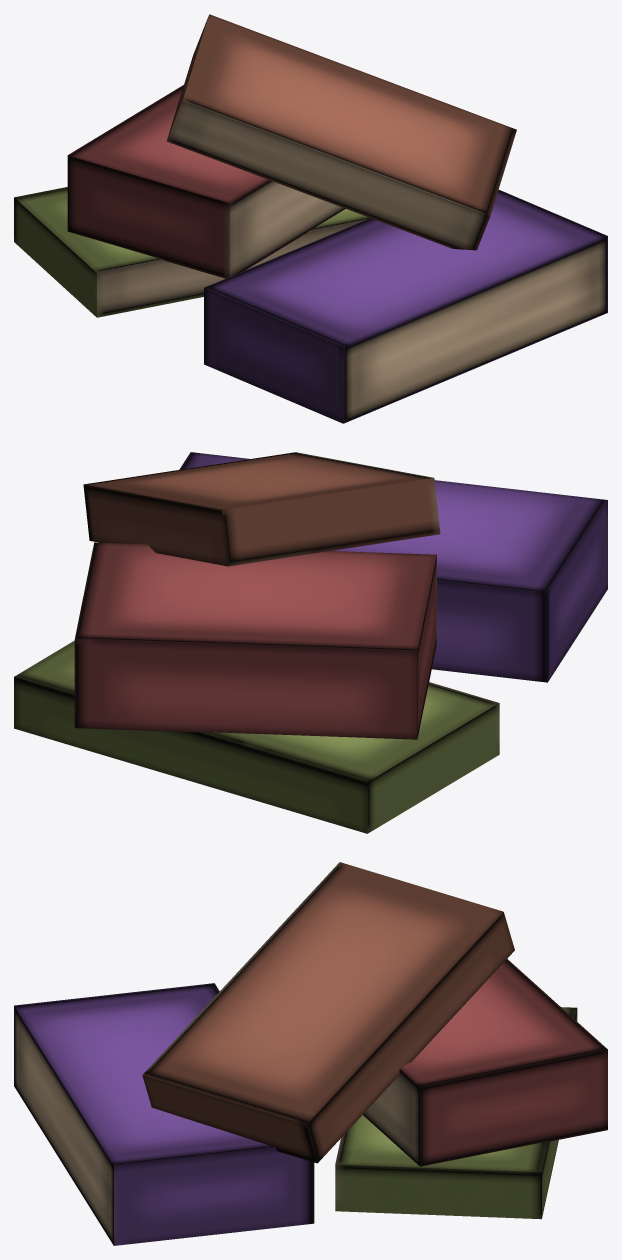
Rendered from CoupleOfBooks1.fbx.
3 renders of one model, top to bottom at view 1: azimuth 30°, elevation 25°; view 2: azimuth 150°, elevation 25°; view 3: azimuth 270°, elevation 25°, orthographic. The views are drawn at different scales.
Parts seen in each view (by area): view 1: CoupleOfBooks1; view 2: CoupleOfBooks1; view 3: CoupleOfBooks1.
Part boxes in pixels (left/top/right/bottom): CoupleOfBooks1: left=14, top=14, right=607, bottom=423; CoupleOfBooks1: left=14, top=452, right=607, bottom=833; CoupleOfBooks1: left=14, top=862, right=607, bottom=1245.
Size of the model in its own units: 0.3622 by 0.1908 by 0.4559.
